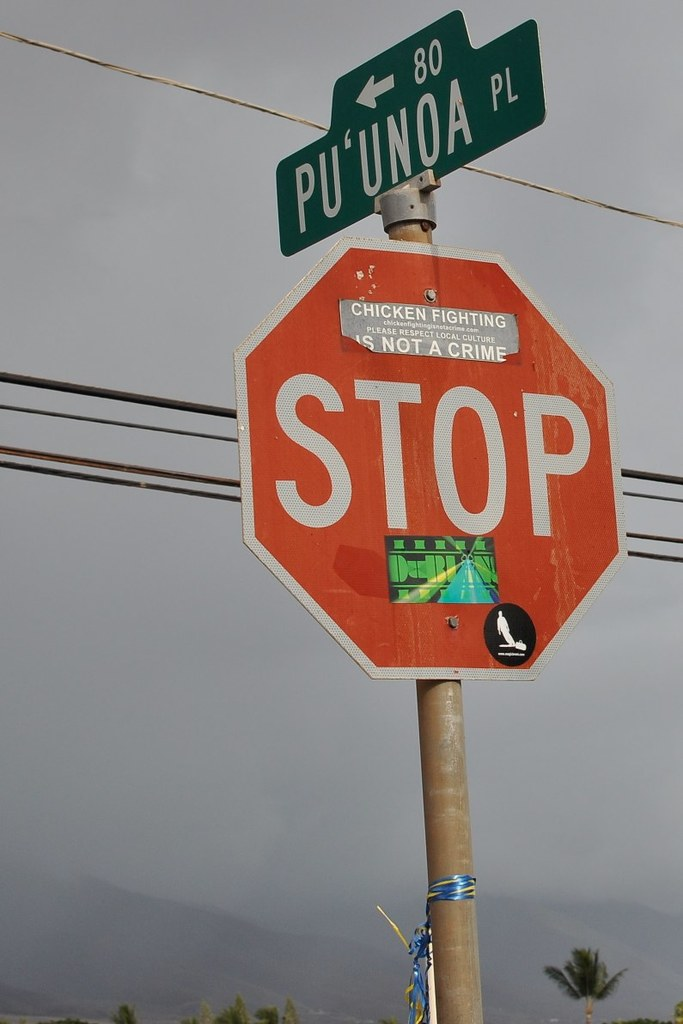stop_sign: (239, 236, 624, 677)
